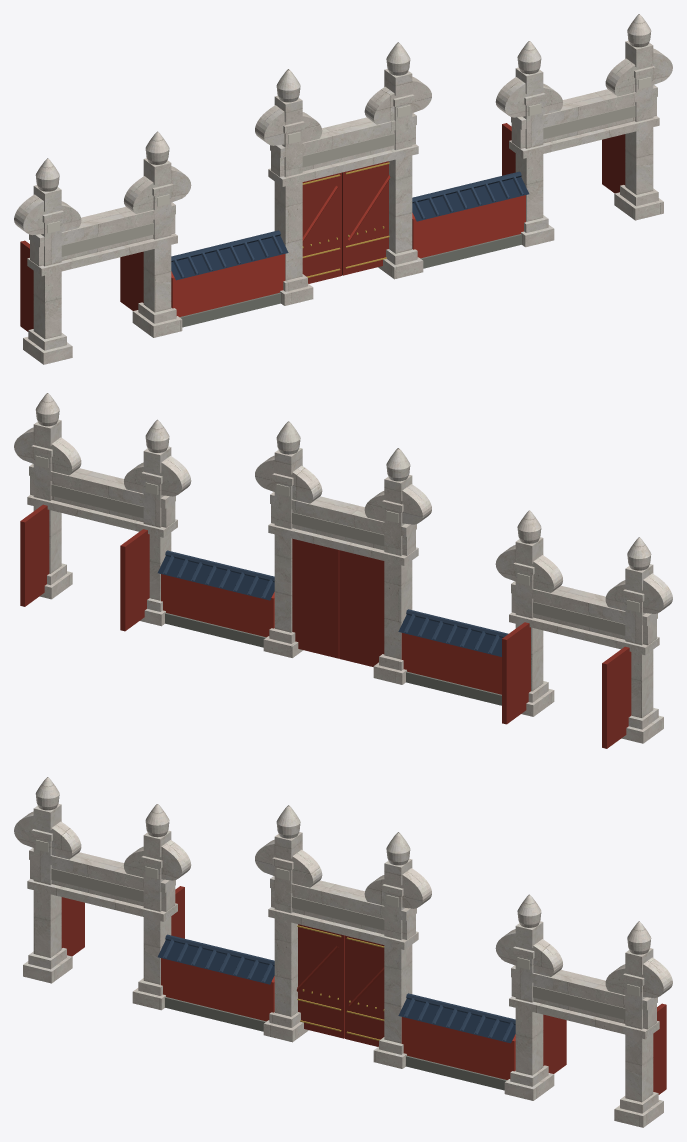
The model's file is mound-outer-gate-preview.glb.
3 renders of one model, top to bottom at view 1: azimuth 30°, elevation 25°; view 2: azimuth 150°, elevation 25°; view 3: azimuth 330°, elevation 25°, orthographic.
Visible parts, largest first — view 1: mound-outer-gate stone, mound-outer-gate redDark, mound-outer-gate red, mound-outer-gate blueRoof, mound-outer-gate recess, mound-outer-gate blueTile, mound-outer-gate base, mound-outer-gate relief, mound-outer-gate metal; view 2: mound-outer-gate stone, mound-outer-gate redDark, mound-outer-gate red, mound-outer-gate blueRoof, mound-outer-gate recess, mound-outer-gate blueTile, mound-outer-gate base, mound-outer-gate relief; view 3: mound-outer-gate stone, mound-outer-gate redDark, mound-outer-gate red, mound-outer-gate blueRoof, mound-outer-gate recess, mound-outer-gate blueTile, mound-outer-gate base, mound-outer-gate relief, mound-outer-gate metal.
Boxes of the visible parts, bbox=[...] form: mound-outer-gate stone: bbox=[14, 14, 672, 364]; mound-outer-gate redDark: bbox=[20, 123, 625, 331]; mound-outer-gate red: bbox=[171, 175, 525, 316]; mound-outer-gate blueRoof: bbox=[171, 177, 529, 280]; mound-outer-gate recess: bbox=[61, 105, 635, 256]; mound-outer-gate blueTile: bbox=[171, 171, 523, 277]; mound-outer-gate base: bbox=[179, 234, 521, 327]; mound-outer-gate relief: bbox=[47, 77, 651, 233]; mound-outer-gate metal: bbox=[302, 162, 389, 277]; mound-outer-gate stone: bbox=[14, 393, 672, 743]; mound-outer-gate redDark: bbox=[20, 504, 631, 748]; mound-outer-gate red: bbox=[161, 574, 501, 694]; mound-outer-gate blueRoof: bbox=[157, 556, 502, 656]; mound-outer-gate recess: bbox=[51, 484, 625, 635]; mound-outer-gate blueTile: bbox=[163, 550, 508, 653]; mound-outer-gate base: bbox=[165, 613, 501, 705]; mound-outer-gate relief: bbox=[35, 455, 639, 612]; mound-outer-gate stone: bbox=[14, 777, 672, 1127]; mound-outer-gate redDark: bbox=[61, 886, 666, 1094]; mound-outer-gate red: bbox=[161, 945, 515, 1079]; mound-outer-gate blueRoof: bbox=[157, 940, 515, 1043]; mound-outer-gate recess: bbox=[51, 868, 625, 1019]; mound-outer-gate blueTile: bbox=[163, 934, 515, 1040]; mound-outer-gate base: bbox=[165, 997, 507, 1090]; mound-outer-gate relief: bbox=[35, 840, 639, 996]; mound-outer-gate metal: bbox=[297, 925, 384, 1040].
Size of the model in its own units: 0.1624 by 0.0539 by 0.0175.
9 materials, 1 textured.
